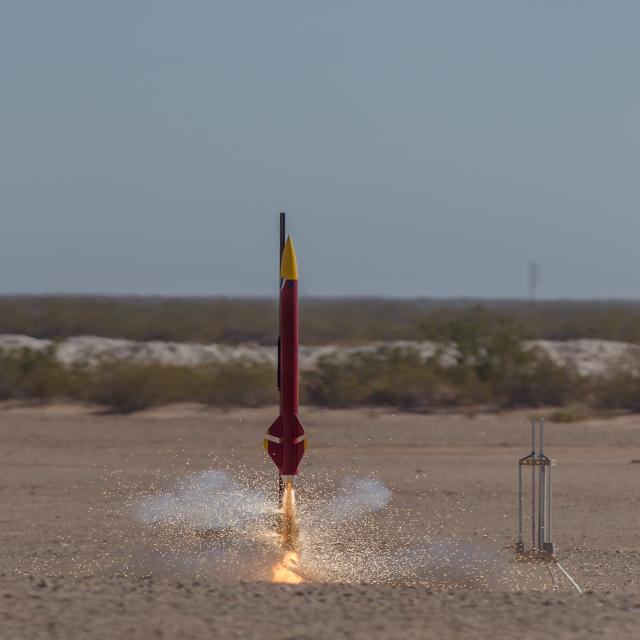Rocket: (264, 235, 312, 489)
